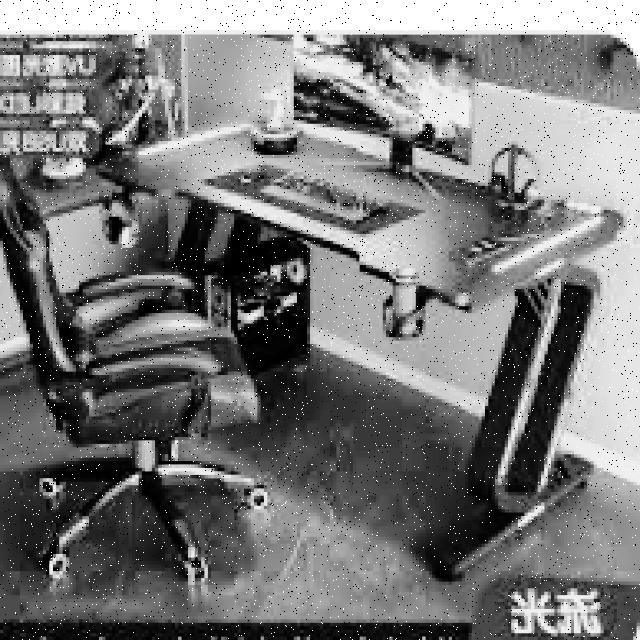book: (0, 151, 271, 585)
table: (0, 114, 627, 578)
